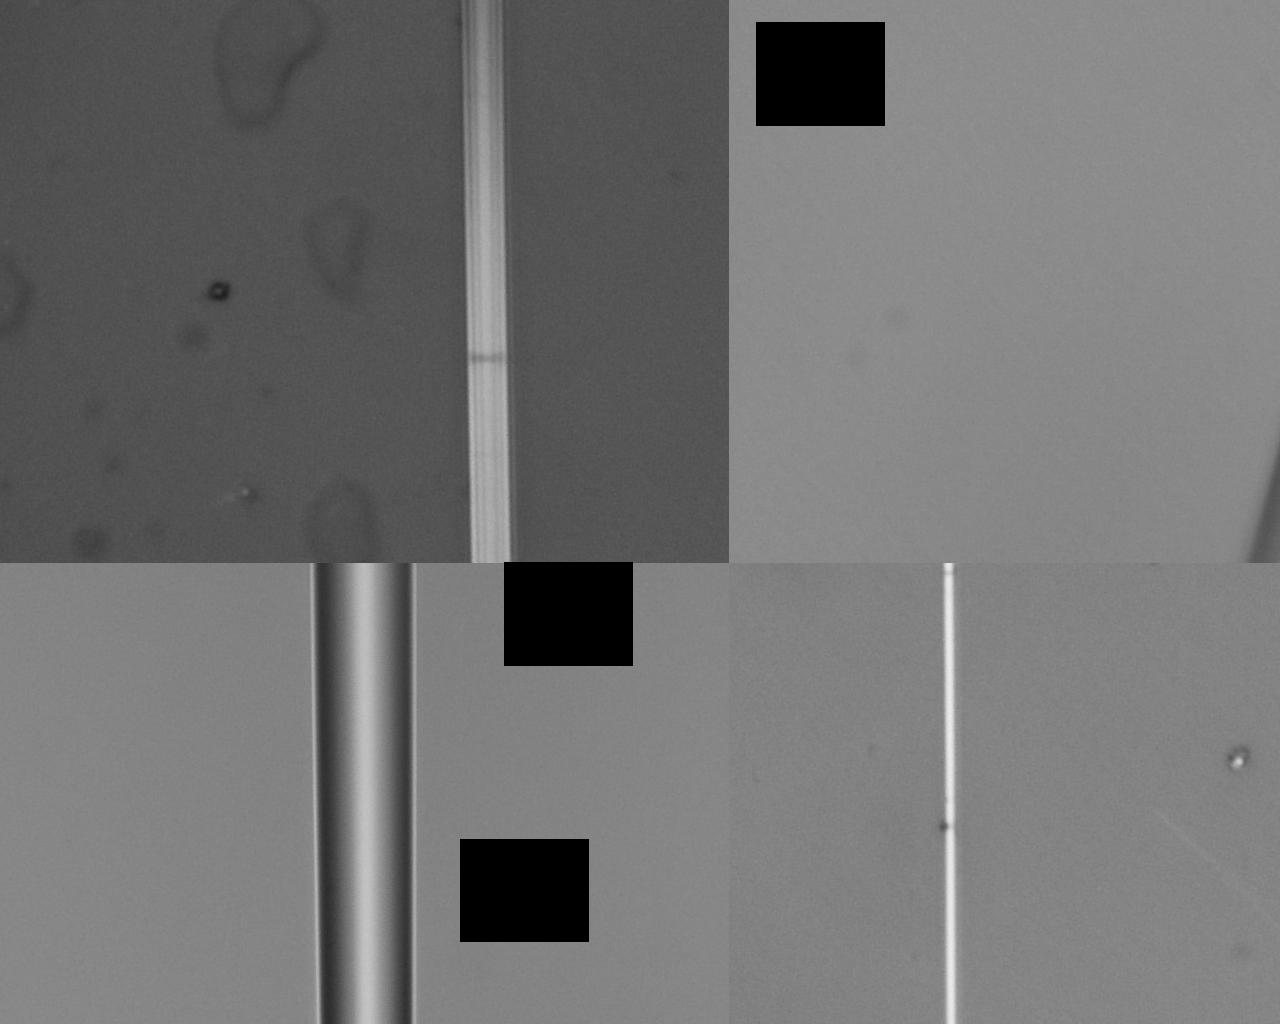fiber: (371, 306, 1196, 517), (371, 770, 1280, 913), (0, 327, 371, 634), (0, 634, 349, 868)
